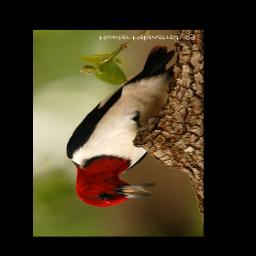Woodpecker: (65, 45, 175, 208)
